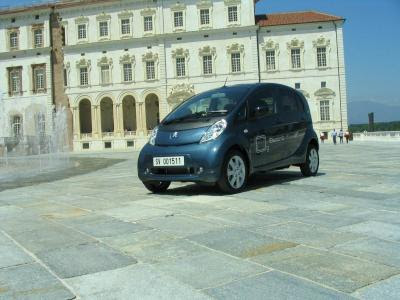car: (131, 80, 316, 196)
